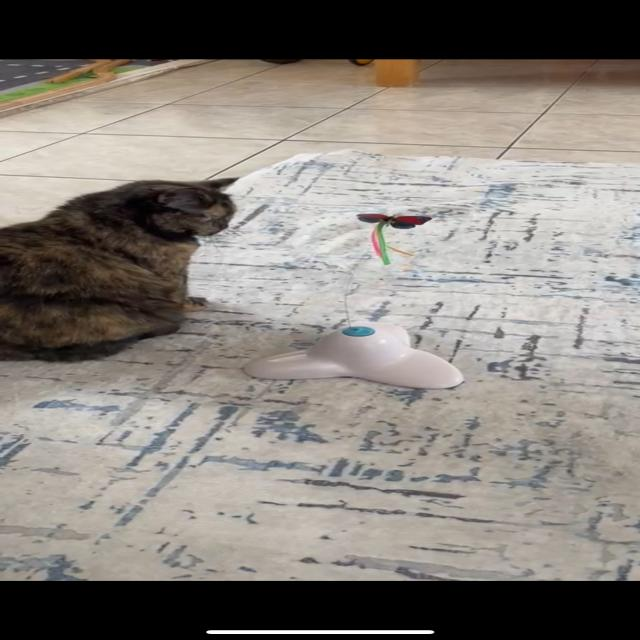authorized: (1, 176, 241, 363)
